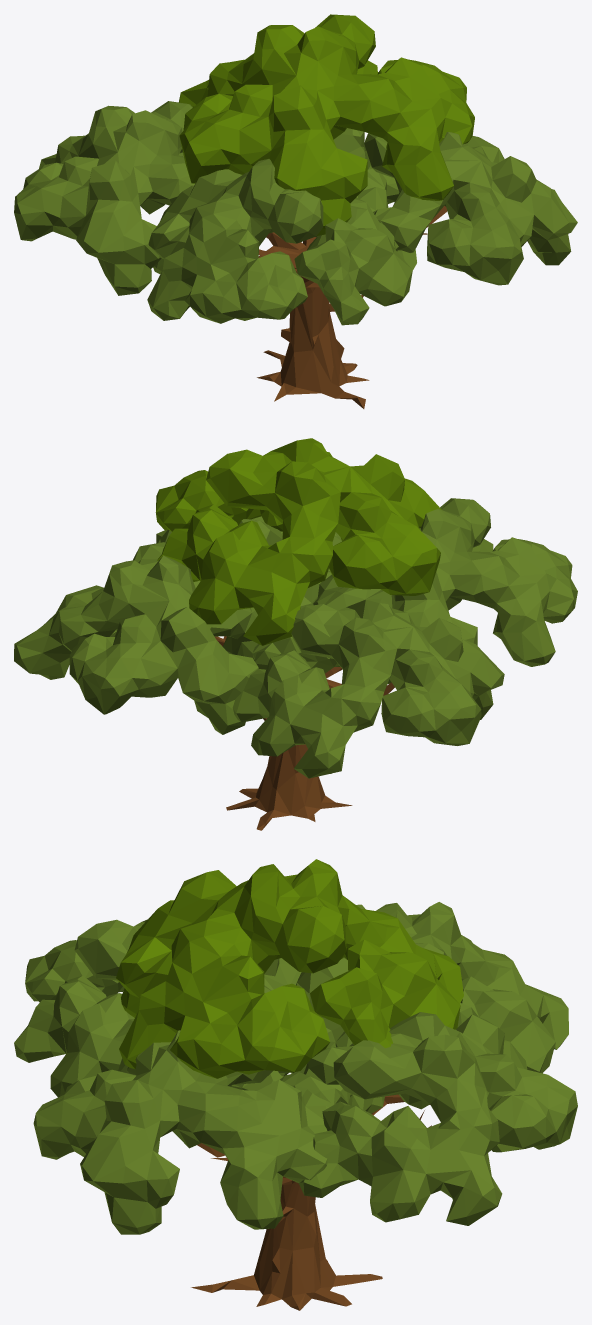
File: Weeping Fig3.fbx
3 renders of one model, top to bottom at view 1: azimuth 30°, elevation 25°; view 2: azimuth 150°, elevation 25°; view 3: azimuth 270°, elevation 25°, orthographic. The views are drawn at different scales.
Visible parts, largest first — view 1: Weep Fig3; view 2: Weep Fig3; view 3: Weep Fig3.
Boxes of the visible parts, bbox=[...] form: Weep Fig3: bbox=[14, 14, 577, 408]; Weep Fig3: bbox=[14, 438, 577, 830]; Weep Fig3: bbox=[14, 859, 577, 1310].
Size of the model in its own units: 2196 by 1712 by 2117.
1 material, 1 textured.
